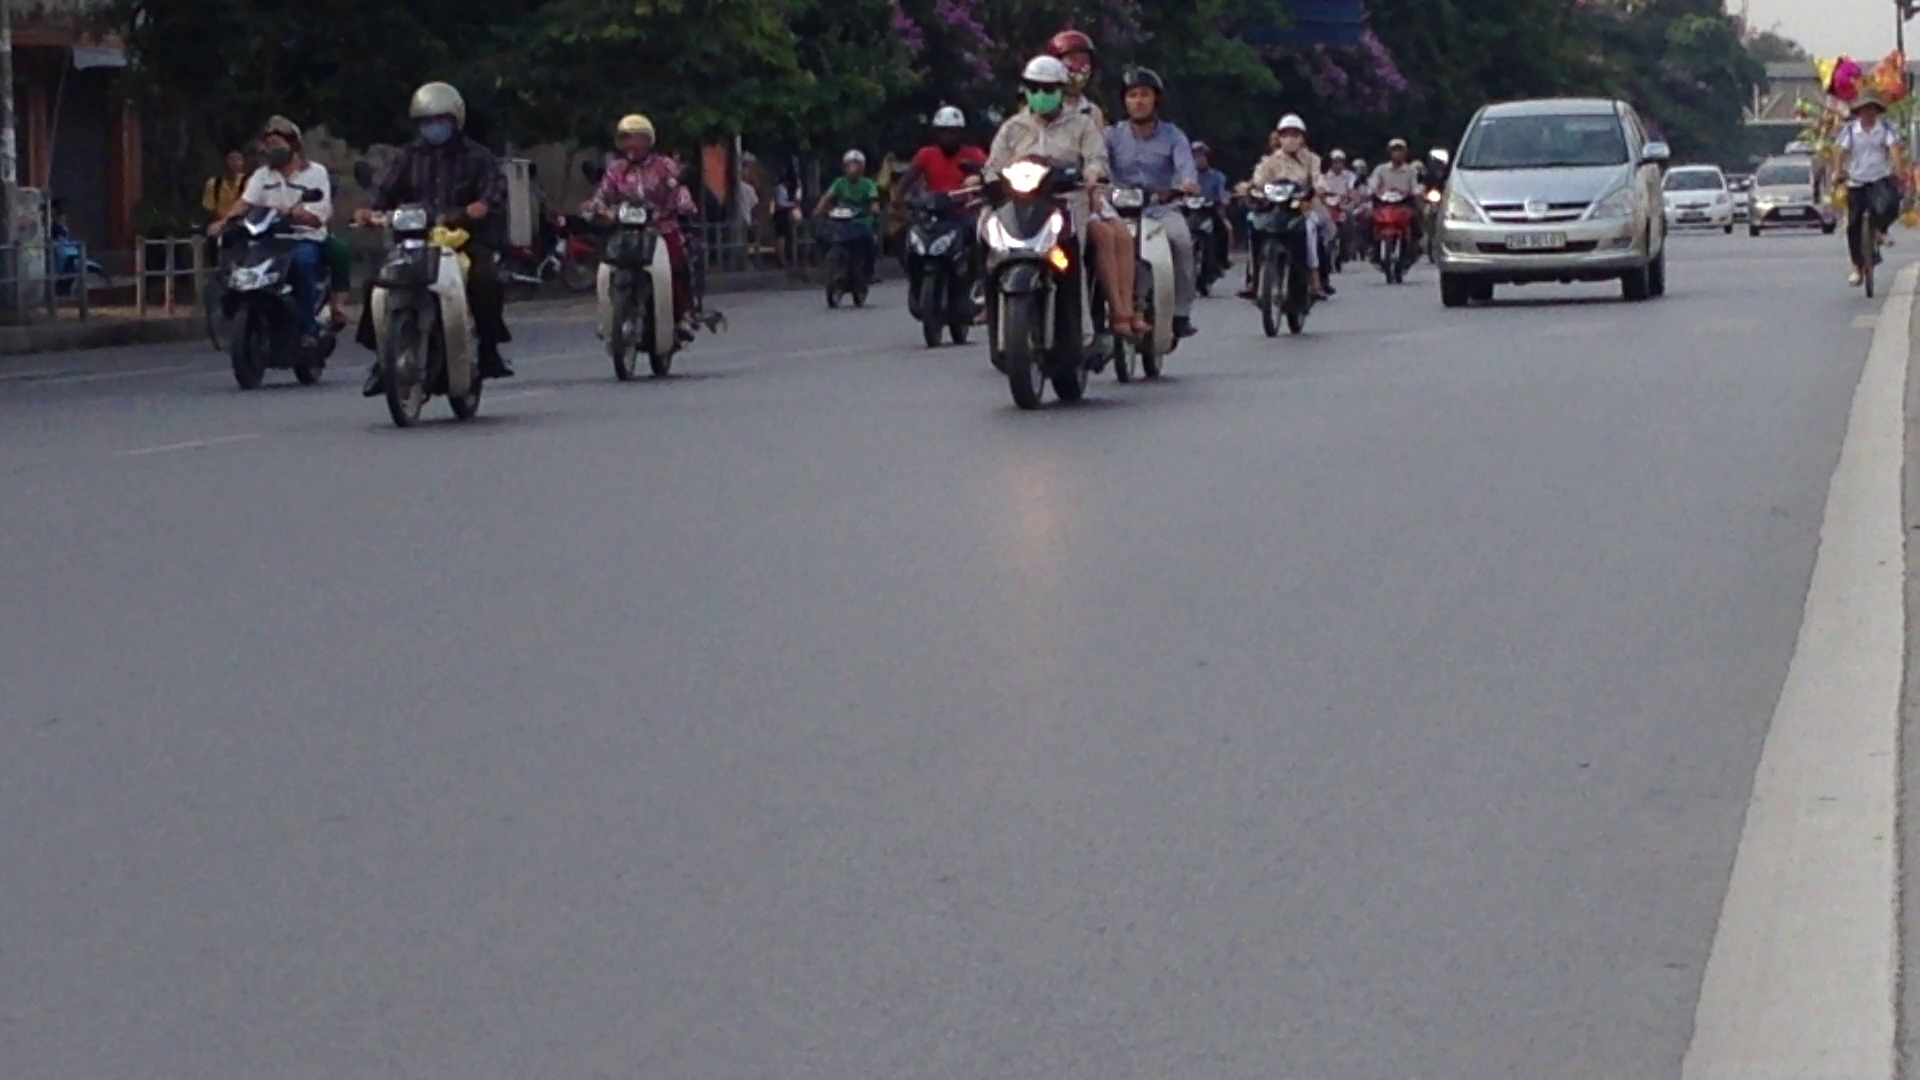person: (1498, 225, 1568, 250)
